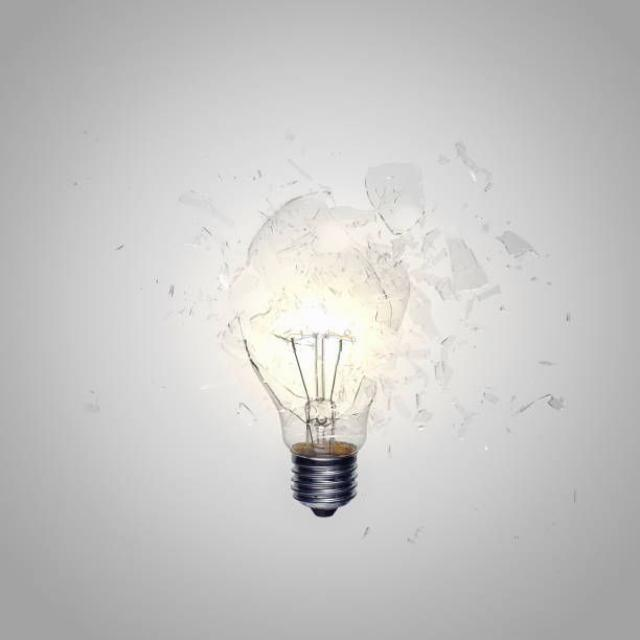electronic: (164, 139, 546, 518), (220, 193, 415, 516), (244, 300, 382, 518)
